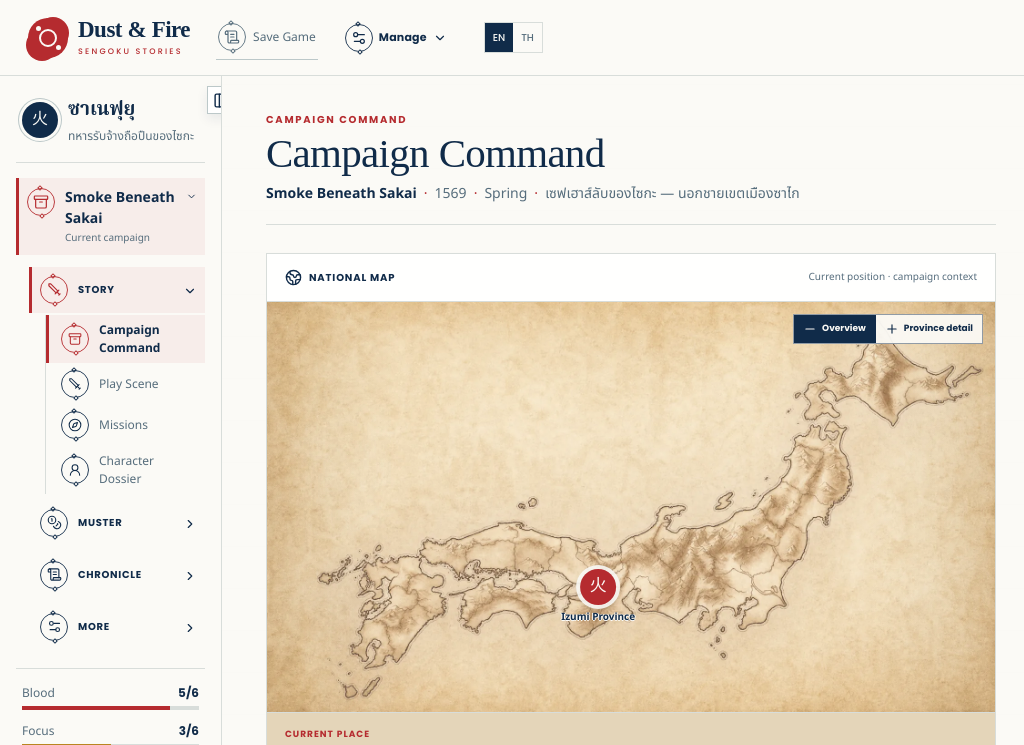
Test: UI Preview click flow › opens Application Management items as separate preparing pages without service actions
Click the button "Manage". click: (396, 38)
box: [344,20,448,54]
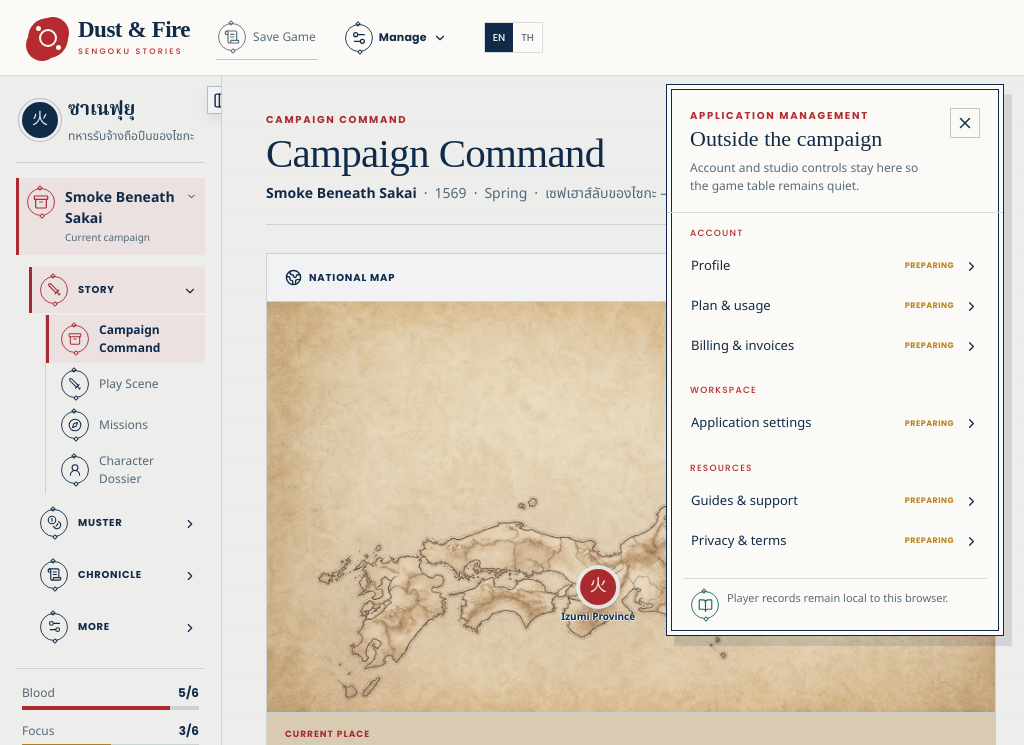
Click the button "Profile Preparing". click: (711, 266)
box: [683,246,987,286]
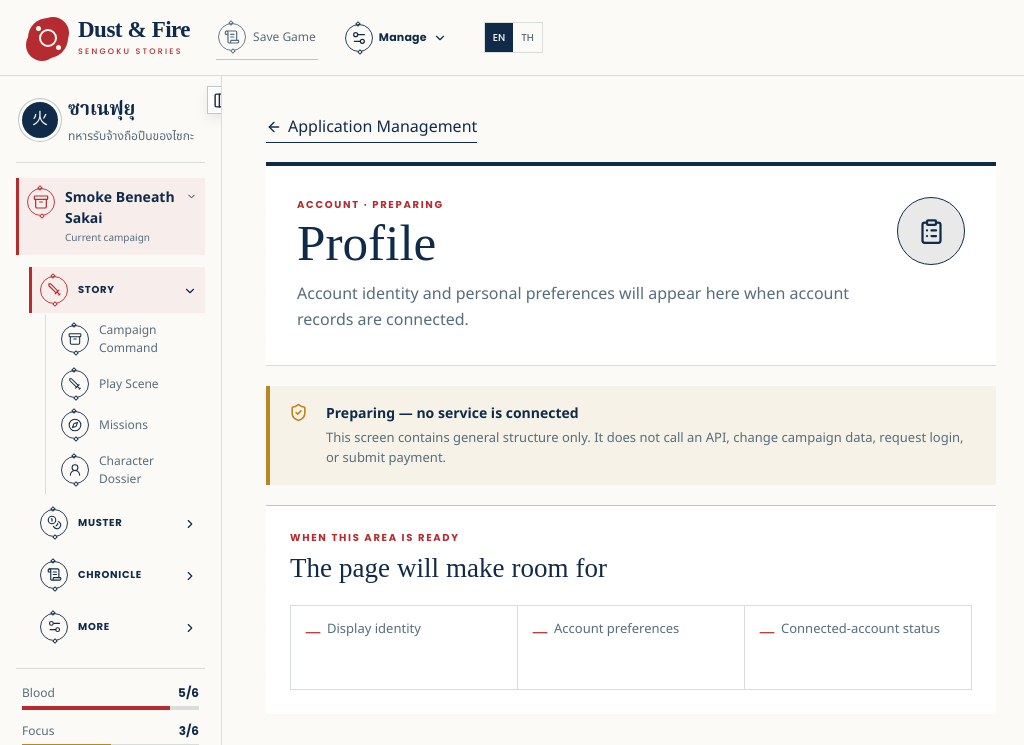
Check: the element with test id "management-detail-page" is shown, box [266,112,996,714]
Check: the text "Preparing — no service is connected" is shown, box [326,402,579,424]
Check: the text "Account identity and personal preferences will appear here when account records are connected." is shown, box [297,282,849,332]
